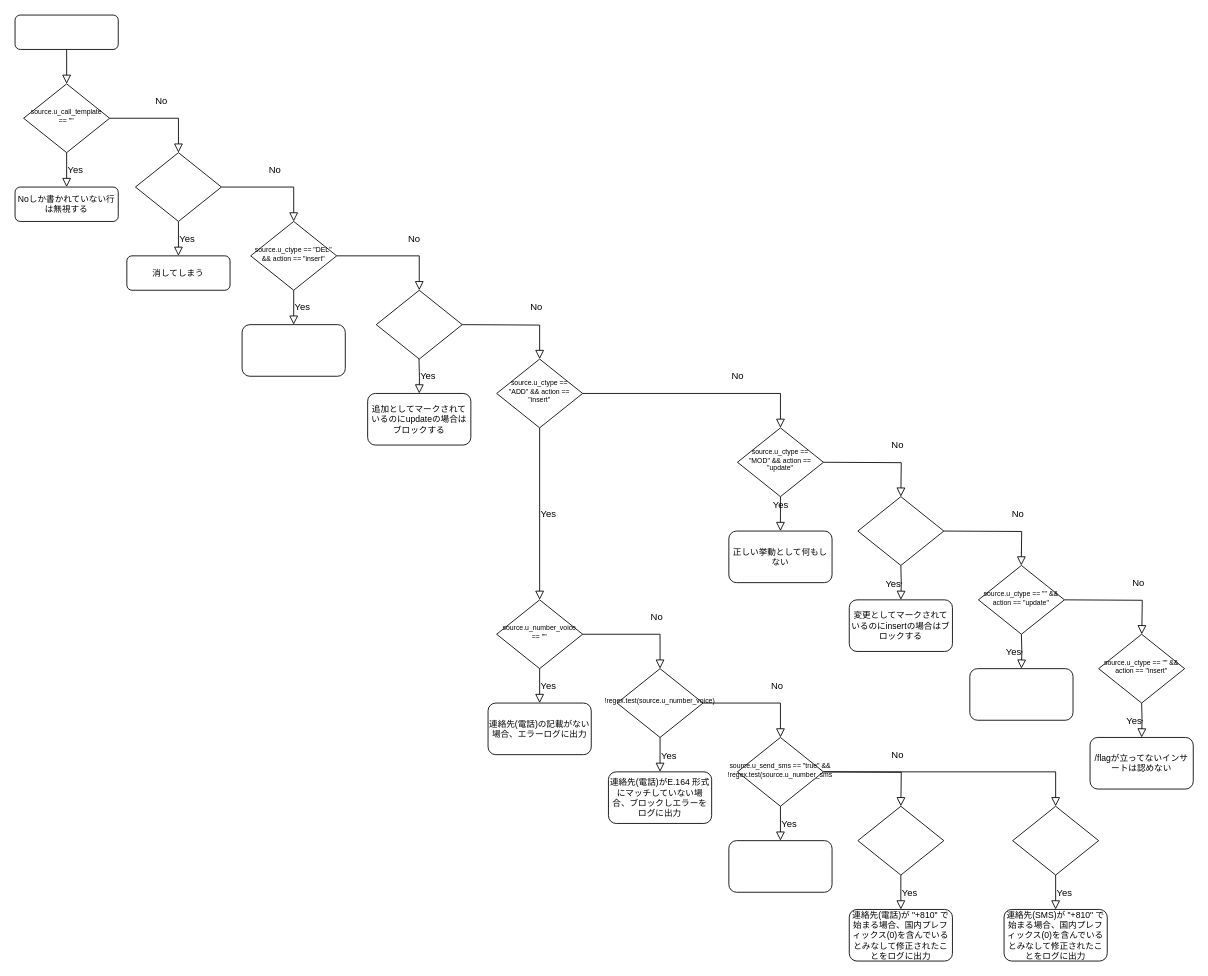
This 1208x976 diagram has some shape labels left out. The centre of each missing label's shape, as x and y in pixels:
SMS送信がtureかつ連絡先(SMS)がE.164 形式にマッチしていない場合、ブロックしエラーをログに出力: the point at 780,866
source.u_ctype == "ADD" && action == "update": the point at 418,324
source.u_ctype == "DEL" && action == "update": the point at 178,186
source.u_ctype == "MOD" && action == "insert": the point at 900,530
source.u_number_sms.startsWith("+810"): the point at 1055,840
source.u_number_voice.startsWith("+810"): the point at 900,840
updateになってるけどフラグなしの場合何も起きないので何もしない: the point at 1021,694
データインポート: the point at 66,31
削除としてマークされているのにinsertの場合はブロックする: the point at 293,350
